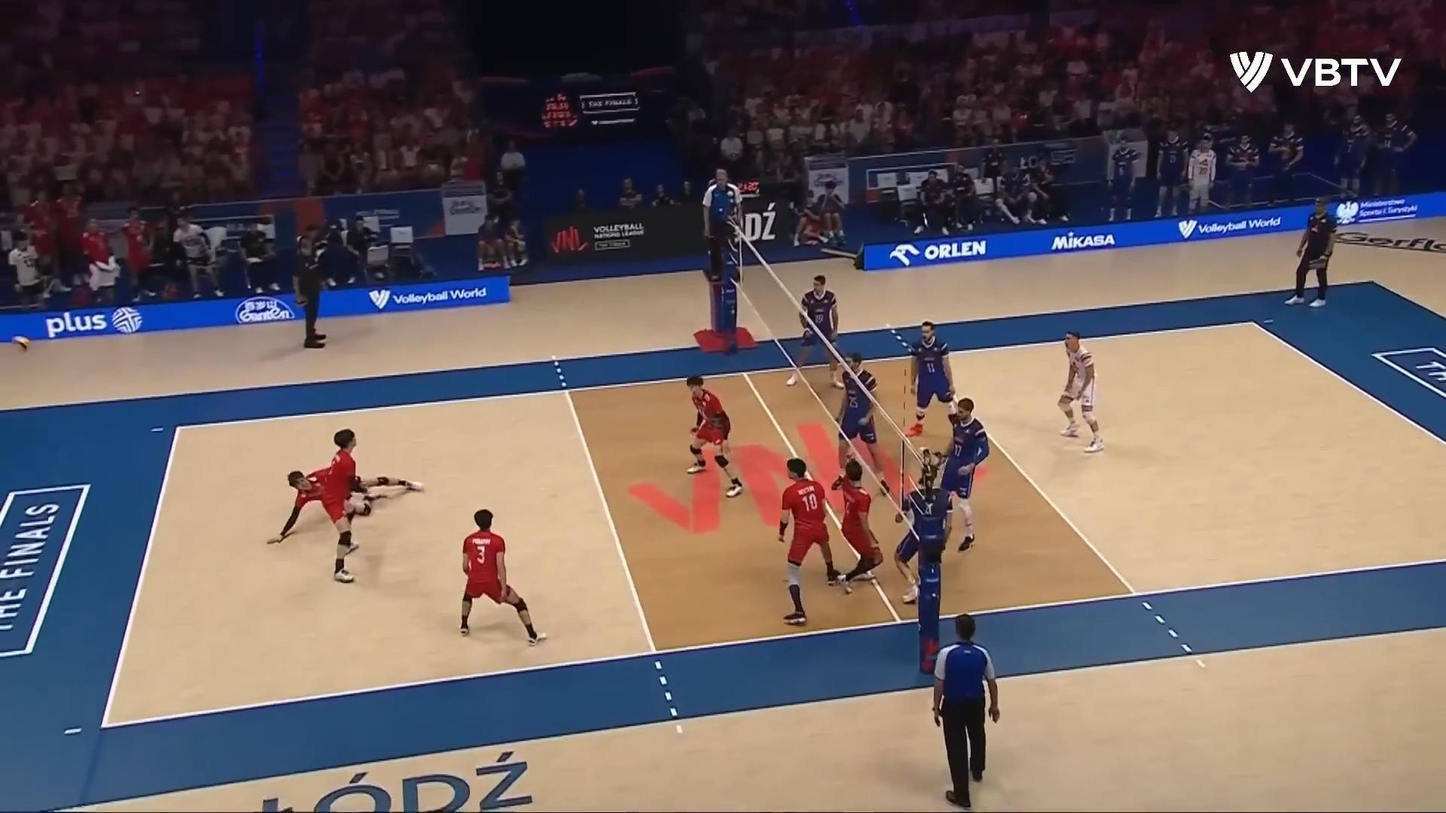ball: (11, 335, 29, 352)
